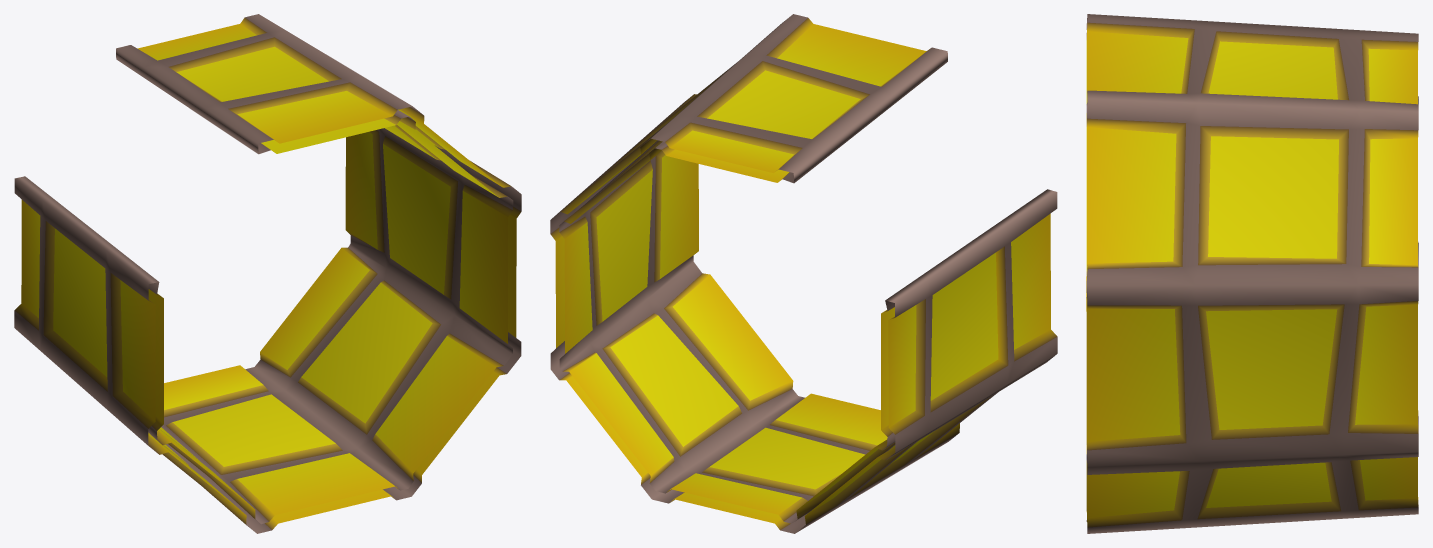
File: LighthouseGlassWallsLightOn.fbx
3 renders of one model, left to right at view 1: azimuth 30°, elevation 25°; view 2: azimuth 150°, elevation 25°; view 3: azimuth 270°, elevation 25°, orthographic. The views are drawn at different scales.
Visible parts, largest first — view 1: LighthouseGlassWallsLightOn; view 2: LighthouseGlassWallsLightOn; view 3: LighthouseGlassWallsLightOn.
Boxes of the visible parts, x1=… form: LighthouseGlassWallsLightOn: x1=14, y1=14, x2=521, y2=533; LighthouseGlassWallsLightOn: x1=550, y1=14, x2=1057, y2=533; LighthouseGlassWallsLightOn: x1=1086, y1=14, x2=1418, y2=533.
Bounding box in the file's own units: 230 × 230 × 159.
